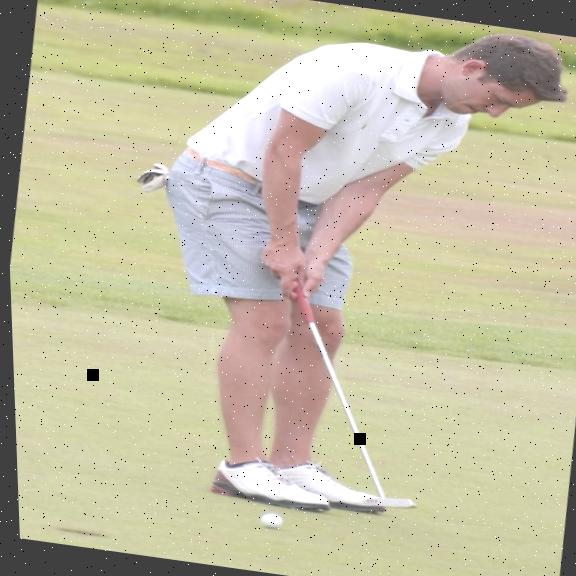ClubHead: (352, 475, 432, 524)
GolfBall: (249, 506, 290, 536)
